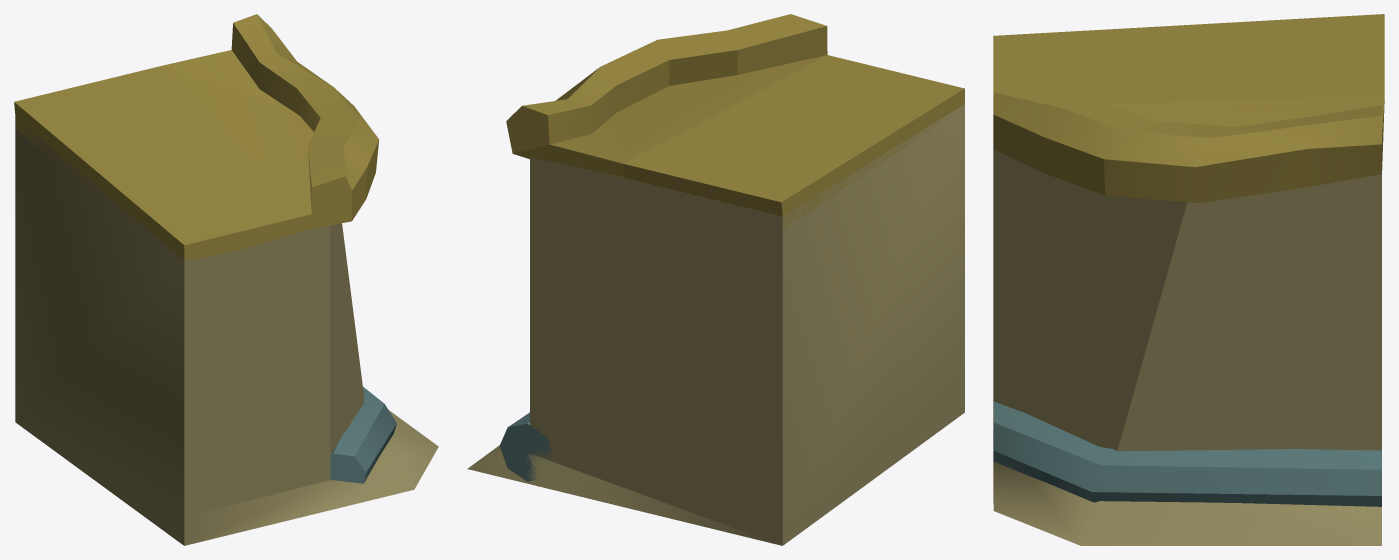
Rendered from Int_17_InnerWall_Left_Diagonal.fbx.
3 views of the same model, side by side, from view 1: azimuth 30°, elevation 25°; view 2: azimuth 150°, elevation 25°; view 3: azimuth 270°, elevation 25° (orthographic). The views are drawn at different scales.
Visible parts, largest first — view 1: Int_17_InnerWall_Left_Diagonal1; view 2: Int_17_InnerWall_Left_Diagonal1; view 3: Int_17_InnerWall_Left_Diagonal1.
Part boxes in pixels (box(x1,y1,x2,y2)): Int_17_InnerWall_Left_Diagonal1: box(14, 14, 438, 545); Int_17_InnerWall_Left_Diagonal1: box(467, 14, 964, 545); Int_17_InnerWall_Left_Diagonal1: box(993, 14, 1384, 545).
Size of the model in its own units: 1 by 1.14 by 1.01.
